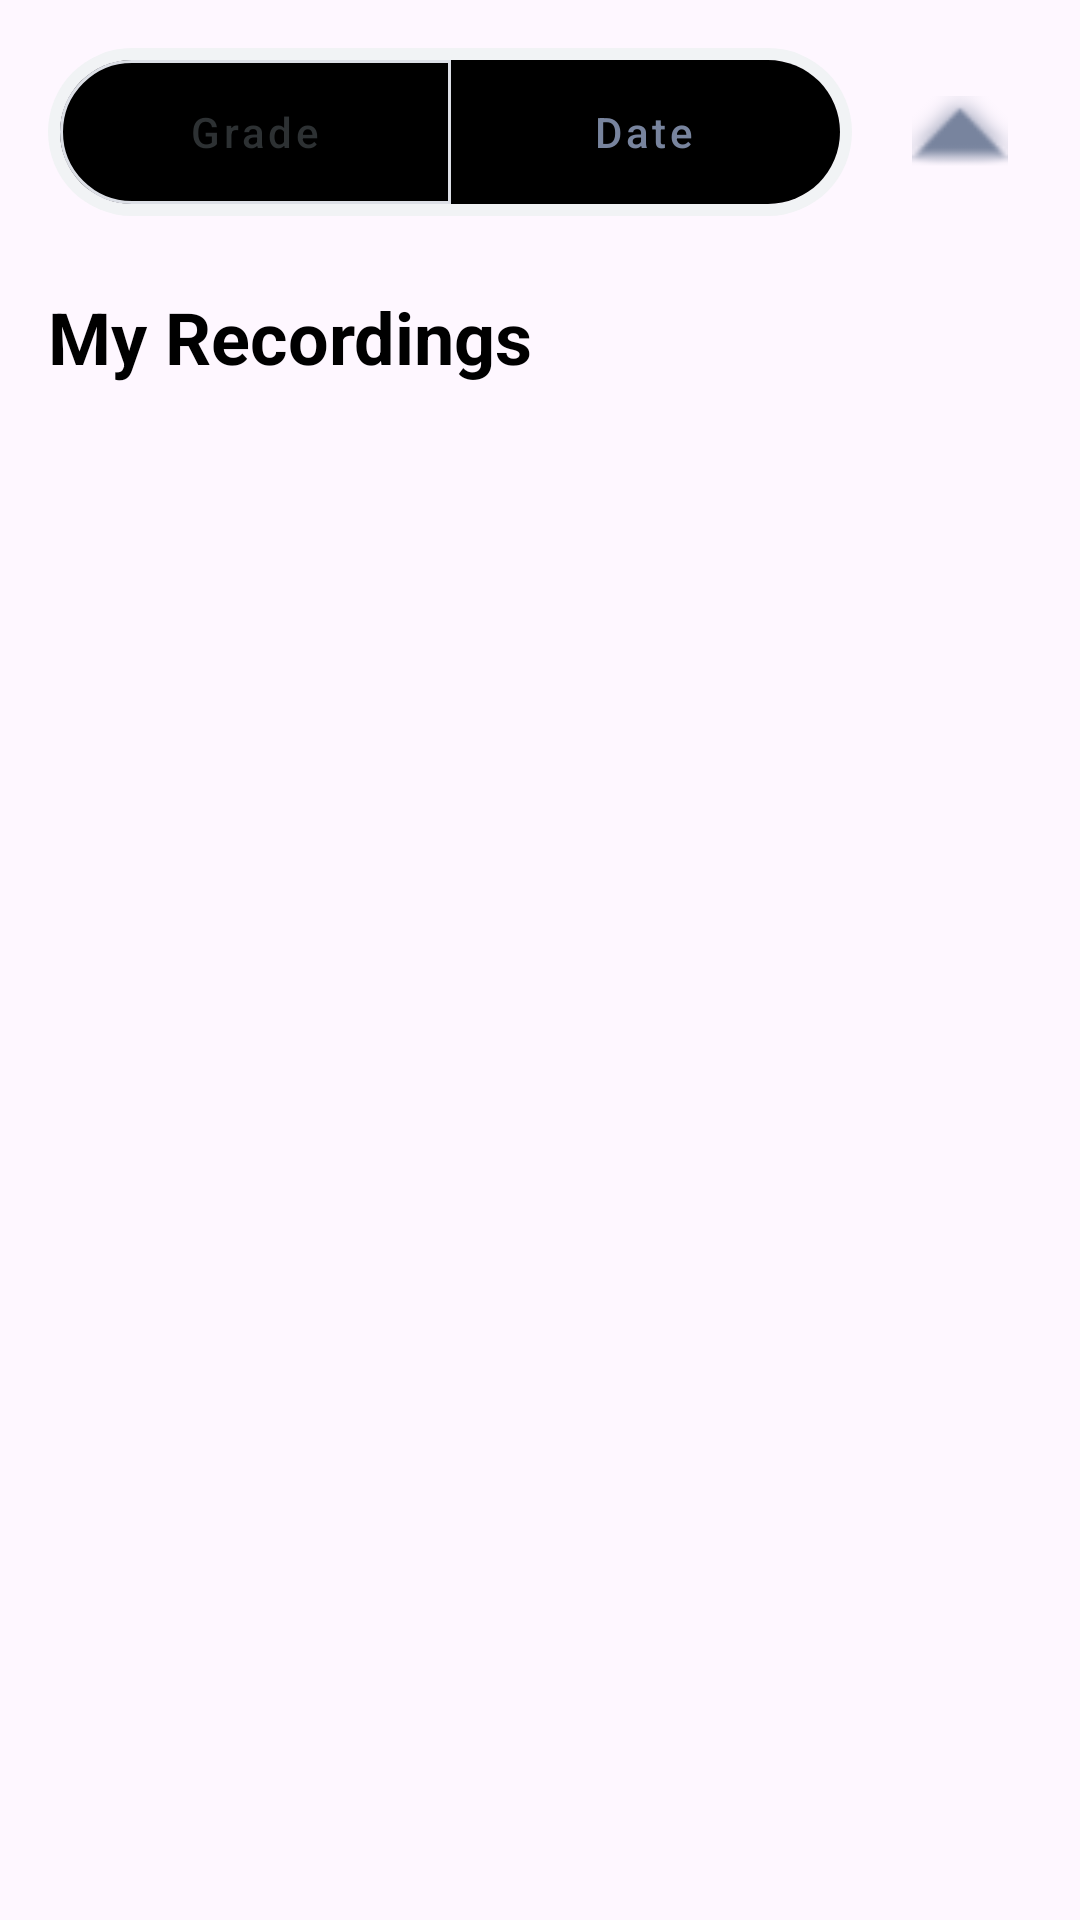

Named icons in this screenshot (1080 × 1920) and their bounding boxes, (x1,y1,x2,y2):
Sort Order: (912,104,1008,162)
